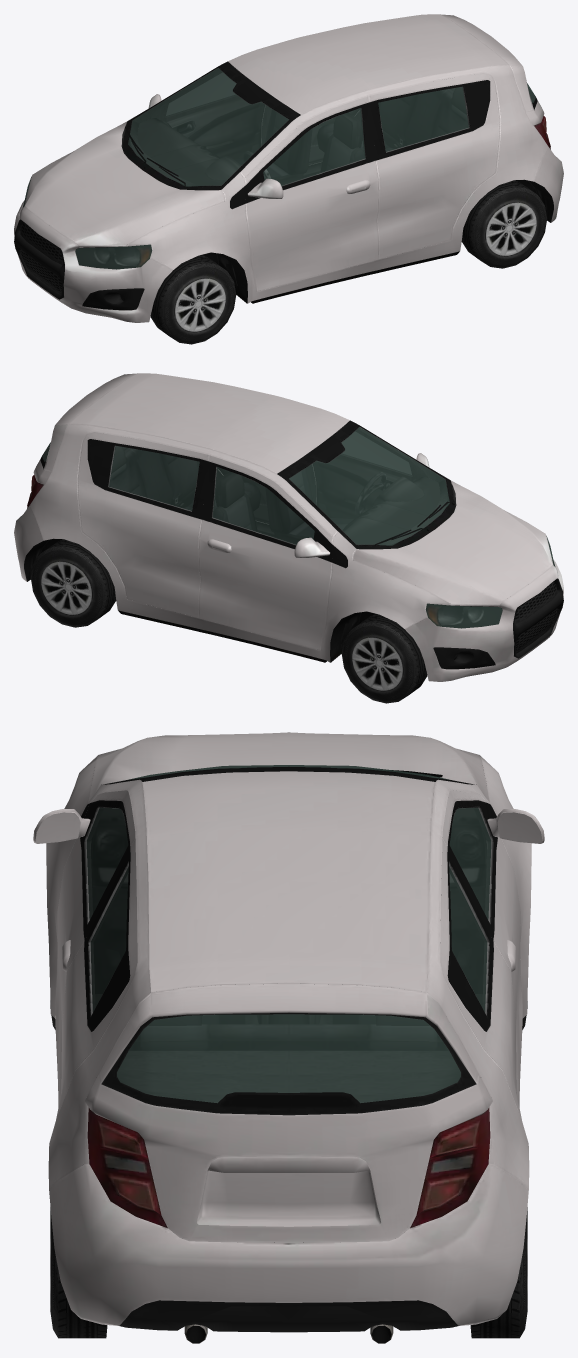
File: hatch.glb
3 views of the same model, one above another, from view 1: azimuth 30°, elevation 25°; view 2: azimuth 150°, elevation 25°; view 3: azimuth 270°, elevation 25° (orthographic). The views are drawn at different scales.
Parts seen in each view (by area): view 1: body_MODERNHATCH_body_0, door_fl_MODERNHATCH_body_0, door_rl_MODERNHATCH_body_0, body_MODERNHATCH_INTERIOR_0, hood_MODERNHATCH_body_0, body_GLASS_0, bumper_front_MODERNHATCH_body_0, wheel_fl_MODERNHATCH_body_0, wheel_rl_MODERNHATCH_body_0, door_fr_MODERNHATCH_INTERIOR_0, door_fl_GLASS_0, door_rl_GLASS_0 (+6 smaller); view 2: body_MODERNHATCH_body_0, door_fr_MODERNHATCH_body_0, door_rr_MODERNHATCH_body_0, body_MODERNHATCH_INTERIOR_0, hood_MODERNHATCH_body_0, body_GLASS_0, bumper_front_MODERNHATCH_body_0, wheel_fr_MODERNHATCH_body_0, wheel_rr_MODERNHATCH_body_0, door_fr_GLASS_0, door_rr_GLASS_0, door_fl_MODERNHATCH_INTERIOR_0 (+6 smaller); view 3: body_MODERNHATCH_body_0, door_rear_MODERNHATCH_body_0, bumper_rear_MODERNHATCH_body_0, body_MODERNHATCH_INTERIOR_0, door_rear_GLASS_0, hood_MODERNHATCH_body_0, door_rl_MODERNHATCH_body_0, door_rr_MODERNHATCH_body_0, door_fr_MODERNHATCH_body_0, door_fl_MODERNHATCH_body_0, door_fr_GLASS_0, door_fl_GLASS_0 (+5 smaller).
Part boxes in pixels (bbox=[...]): body_MODERNHATCH_body_0: bbox=[121, 14, 553, 303]; door_fl_MODERNHATCH_body_0: bbox=[245, 96, 378, 291]; door_rl_MODERNHATCH_body_0: bbox=[368, 73, 500, 259]; body_MODERNHATCH_INTERIOR_0: bbox=[128, 68, 535, 285]; hood_MODERNHATCH_body_0: bbox=[24, 121, 224, 247]; body_GLASS_0: bbox=[128, 68, 288, 186]; bumper_front_MODERNHATCH_body_0: bbox=[14, 200, 172, 322]; wheel_fl_MODERNHATCH_body_0: bbox=[150, 255, 236, 344]; wheel_rl_MODERNHATCH_body_0: bbox=[461, 180, 547, 268]; door_fr_MODERNHATCH_INTERIOR_0: bbox=[150, 70, 264, 159]; door_fl_GLASS_0: bbox=[263, 108, 365, 185]; door_rl_GLASS_0: bbox=[378, 86, 468, 151]; body_MODERNHATCH_body_0: bbox=[24, 373, 456, 662]; door_fr_MODERNHATCH_body_0: bbox=[199, 455, 332, 650]; door_rr_MODERNHATCH_body_0: bbox=[77, 432, 209, 618]; body_MODERNHATCH_INTERIOR_0: bbox=[42, 427, 449, 644]; hood_MODERNHATCH_body_0: bbox=[353, 480, 553, 606]; body_GLASS_0: bbox=[289, 427, 449, 545]; bumper_front_MODERNHATCH_body_0: bbox=[405, 559, 563, 681]; wheel_fr_MODERNHATCH_body_0: bbox=[341, 614, 427, 703]; wheel_rr_MODERNHATCH_body_0: bbox=[30, 539, 116, 627]; door_fr_GLASS_0: bbox=[212, 467, 314, 544]; door_rr_GLASS_0: bbox=[109, 445, 199, 510]; door_fl_MODERNHATCH_INTERIOR_0: bbox=[313, 429, 427, 518]; body_MODERNHATCH_body_0: bbox=[46, 755, 531, 1343]; door_rear_MODERNHATCH_body_0: bbox=[85, 983, 492, 1242]; bumper_rear_MODERNHATCH_body_0: bbox=[49, 1164, 528, 1332]; body_MODERNHATCH_INTERIOR_0: bbox=[91, 808, 486, 1102]; door_rear_GLASS_0: bbox=[117, 1014, 460, 1103]; hood_MODERNHATCH_body_0: bbox=[88, 732, 489, 802]; door_rl_MODERNHATCH_body_0: bbox=[56, 838, 137, 1118]; door_rr_MODERNHATCH_body_0: bbox=[440, 838, 521, 1119]; door_fr_MODERNHATCH_body_0: bbox=[442, 790, 544, 1086]; door_fl_MODERNHATCH_body_0: bbox=[33, 790, 135, 1086]; door_fr_GLASS_0: bbox=[449, 807, 491, 919]; door_fl_GLASS_0: bbox=[86, 807, 128, 919].
Size of the model in its own units: 151 by 56.72 by 67.71.
Materials: 3 (2 with a texture image).
